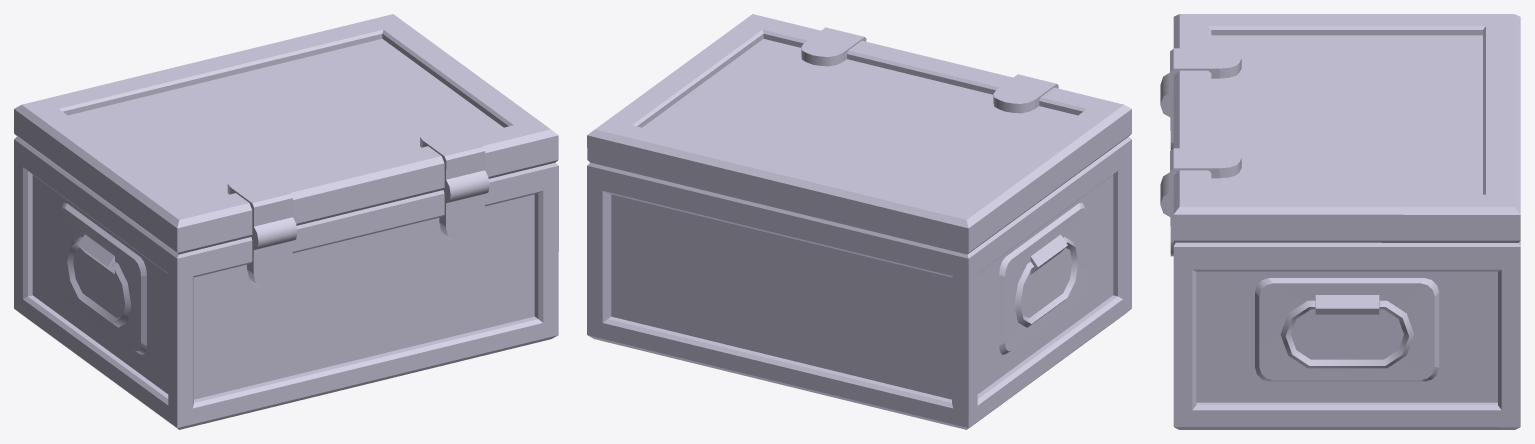
The model's file is Ammo.fbx.
3 renders of one model, left to right at view 1: azimuth 30°, elevation 25°; view 2: azimuth 150°, elevation 25°; view 3: azimuth 270°, elevation 25°, orthographic. The views are drawn at different scales.
Parts seen in each view (by area): view 1: ammopack_medium_reference; view 2: ammopack_medium_reference; view 3: ammopack_medium_reference.
Boxes of the visible parts, x1,y1,x2,y2 form: ammopack_medium_reference: (14, 14, 558, 429); ammopack_medium_reference: (587, 14, 1131, 429); ammopack_medium_reference: (1160, 14, 1520, 429).
Size of the model in its own units: 2221 by 1159 by 1683.
